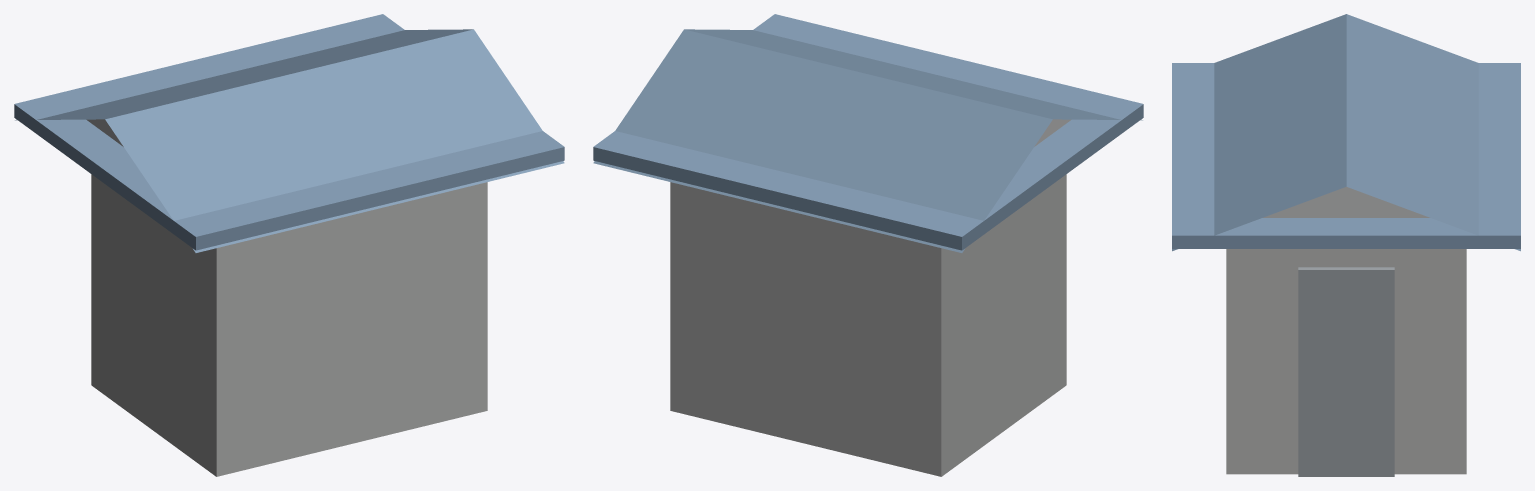
The model's file is 17_street_props-04.glb.
The picture shows the model from 3 angles, left to right: view 1: azimuth 30°, elevation 25°; view 2: azimuth 150°, elevation 25°; view 3: azimuth 270°, elevation 25°; orthographic projection. The views are drawn at different scales.
Size of the model in its own units: 3.4 by 2.85 by 2.9.
